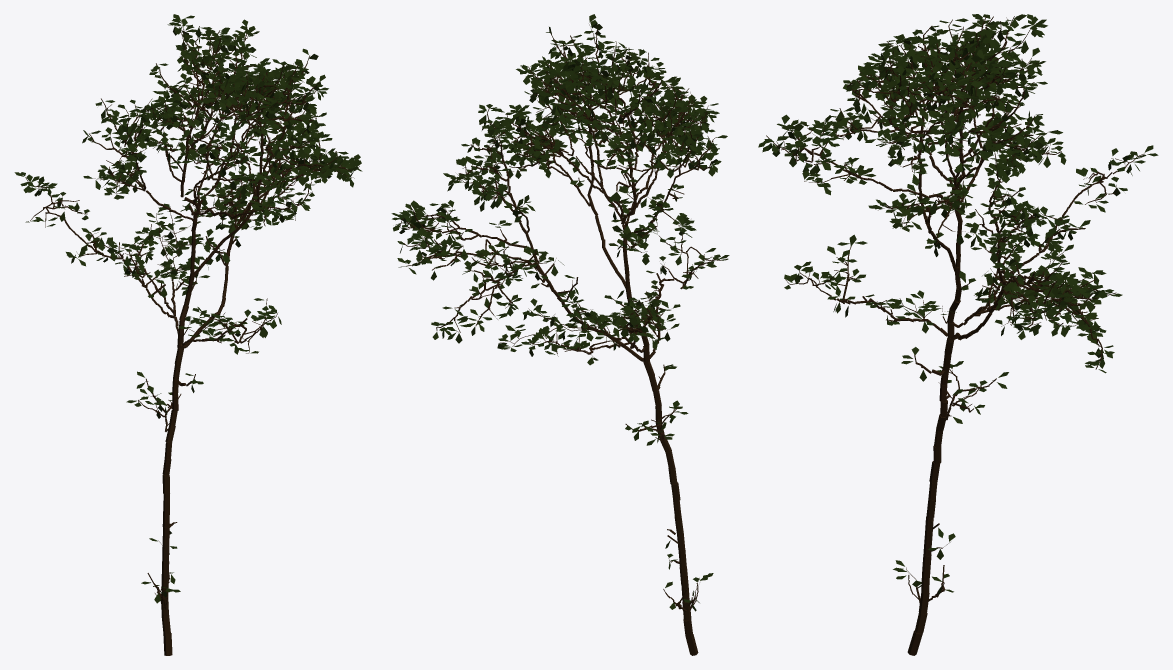
The model's file is tree_220.obj.
The picture shows the model from 3 angles, left to right: view 1: azimuth 30°, elevation 25°; view 2: azimuth 150°, elevation 25°; view 3: azimuth 270°, elevation 25°; orthographic projection. The views are drawn at different scales.
Parts seen in each view (by area): view 1: Leaves, TrunkAndBranches; view 2: Leaves, TrunkAndBranches; view 3: Leaves, TrunkAndBranches.
Boxes of the visible parts, <box> form: Leaves: <box>14,14,362,603</box>; TrunkAndBranches: <box>25,23,359,655</box>; Leaves: <box>391,14,729,611</box>; TrunkAndBranches: <box>399,24,727,655</box>; Leaves: <box>758,14,1158,594</box>; TrunkAndBranches: <box>766,16,1144,655</box>.
Size of the model in its own units: 8.65 by 15.84 by 8.53.
